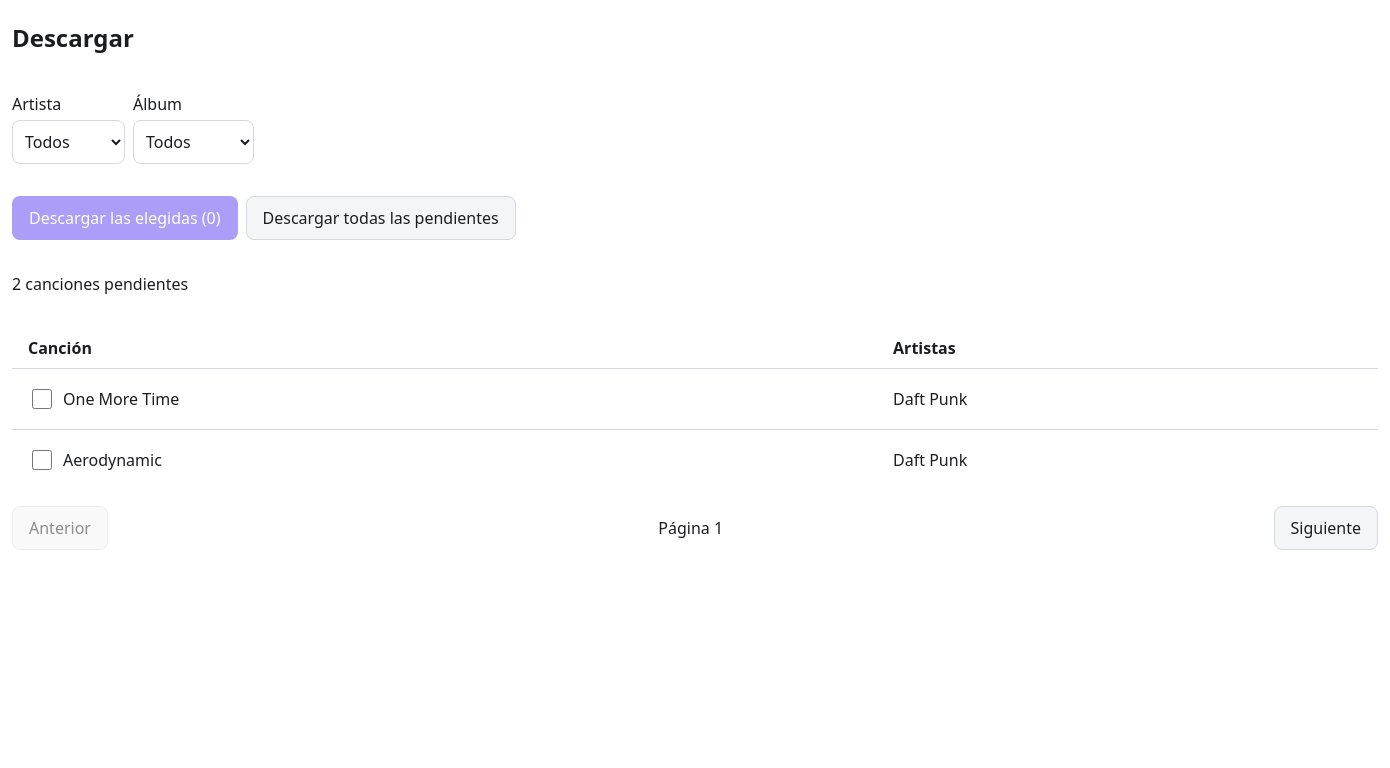
Test: DownloadView › descarga todas las pendientes y, al terminar, recarga la lista
This screenshot has width=1390, height=768.
Click the button "Descargar todas las pendientes" at {"x": 381, "y": 218}, box [246,196,516,240]
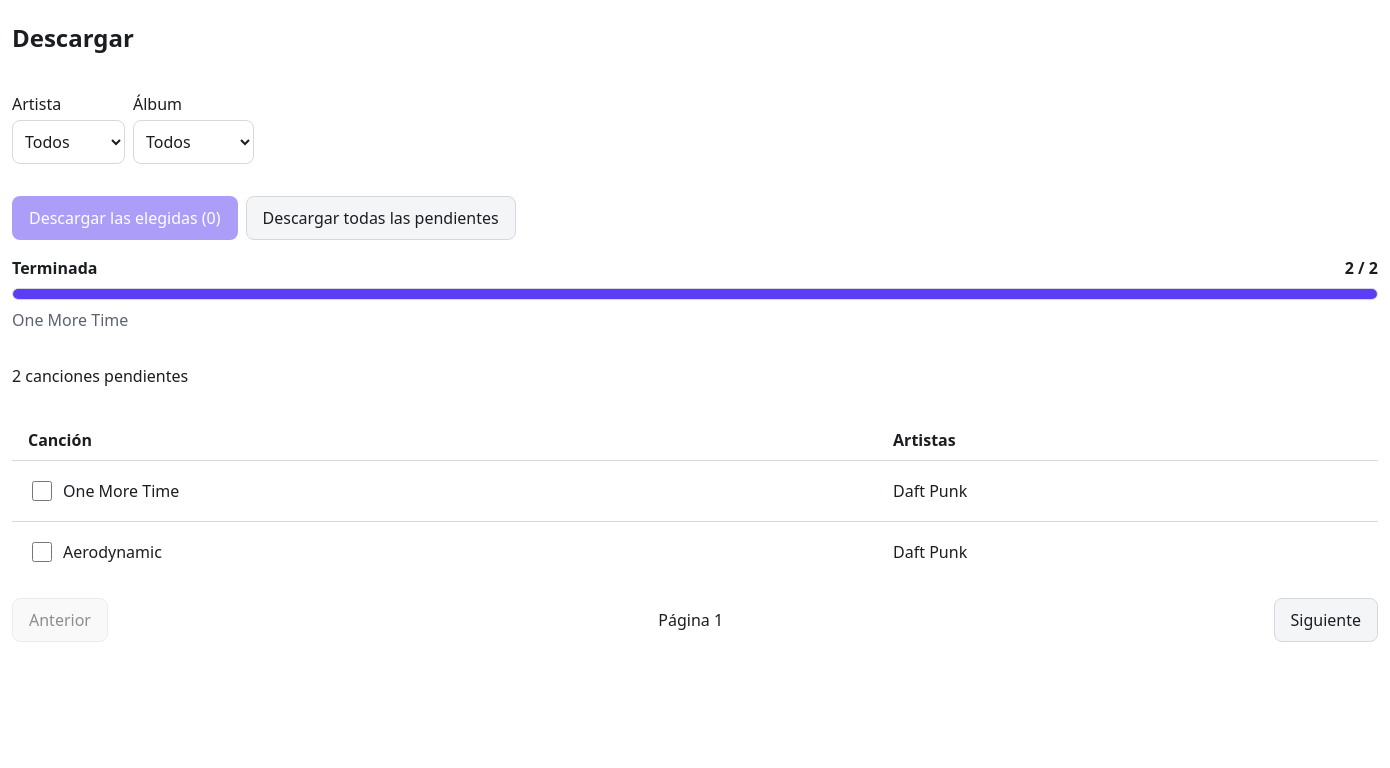
Check: the text "Terminada" is shown, box [12,256,97,280]
